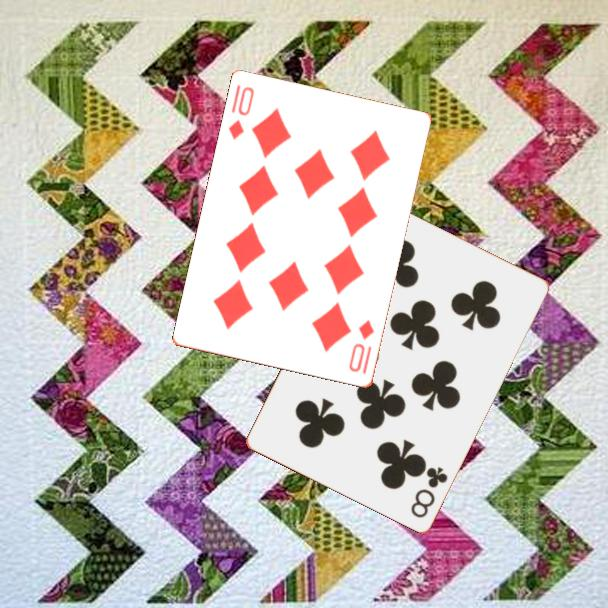c08: (407, 463, 450, 520)
d10: (225, 81, 257, 143), (345, 317, 378, 375)
